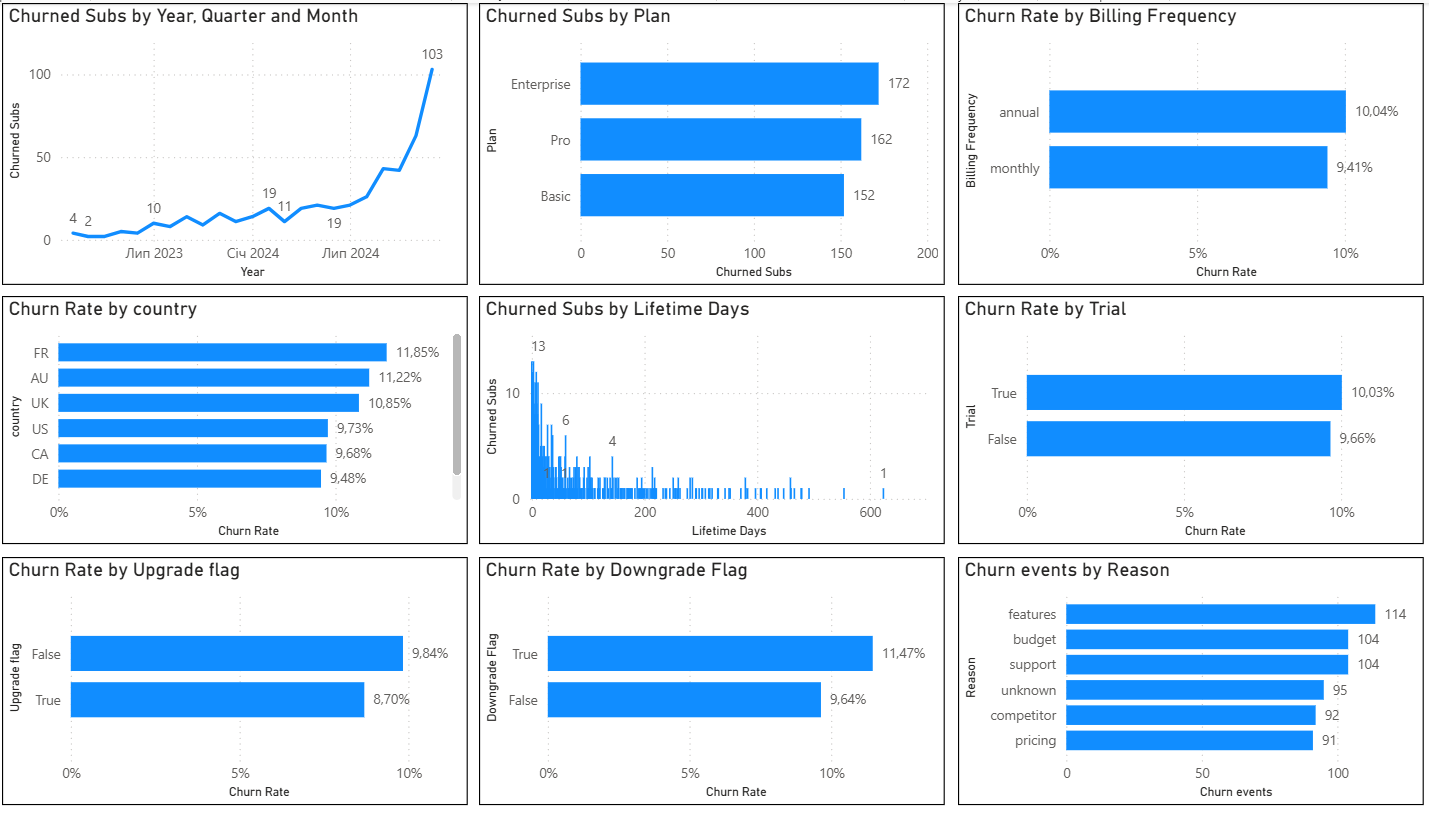

Layout of this report page (visuals, bound fields, positions):
{"tool":"powerbi","page":{"name":"Churn Analysis","canvas":[1280,720],"ordinal":1},"visuals":[{"type":"lineChart","fields":{"Category":["ravenstack_subscriptions.Month.Variation.Date Hierarchy.Year","ravenstack_subscriptions.Month.Variation.Date Hierarchy.Quarter","ravenstack_subscriptions.Month.Variation.Date Hierarchy.Month","ravenstack_subscriptions.Month.Variation.Date Hierarchy.Day"],"Y":["ravenstack_subscriptions.Churned Subs"]},"box":[9.7,0,413.4,250],"z":0},{"type":"barChart","fields":{"Category":["ravenstack_subscriptions.plan_tier"],"Y":["ravenstack_subscriptions.Churned Subs"]},"box":[432.8,0,413.4,250],"z":1000},{"type":"barChart","fields":{"Category":["ravenstack_subscriptions.billing_frequency"],"Y":["ravenstack_subscriptions.Churn Rate"]},"box":[857.9,0,413.4,250],"z":2000},{"type":"barChart","fields":{"Y":["ravenstack_subscriptions.Churn Rate"],"Category":["ravenstack_accounts.country"]},"box":[9.7,259.7,413.4,219.8],"z":3000},{"type":"barChart","fields":{"Y":["ravenstack_subscriptions.Churn Rate"],"Category":["ravenstack_subscriptions.upgrade_flag"]},"box":[9.7,491.2,413.4,219.8],"z":4000},{"type":"columnChart","fields":{"Y":["ravenstack_subscriptions.Churned Subs"],"Category":["ravenstack_subscriptions.Lifetime Days"]},"box":[432.8,259.7,413.4,219.8],"z":5000},{"type":"barChart","fields":{"Category":["ravenstack_subscriptions.is_trial"],"Y":["ravenstack_subscriptions.Churn Rate"]},"box":[857.9,259.7,413.4,219.8],"z":6000},{"type":"barChart","fields":{"Y":["ravenstack_subscriptions.Churn Rate"],"Category":["ravenstack_subscriptions.downgrade_flag"]},"box":[432.8,491.2,413.4,219.8],"z":7000},{"type":"barChart","fields":{"Category":["ravenstack_churn_events.reason_code"],"Y":["CountNonNull(ravenstack_churn_events.churn_event_id)"]},"box":[857.9,491.2,413.4,219.8],"z":8000}]}

Visuals, with their boxes in screenshot pixels (x1, y1, x2, y2), scaled from the page's 1280x720 canvas onto the 1429x813 screenshot:
lineChart - ravenstack_subscriptions.Month.Variation.Date Hierarchy.Year x ravenstack_subscriptions.Month.Variation.Date Hierarchy.Quarter: locate(11, 0, 472, 282)
barChart - ravenstack_subscriptions.plan_tier x ravenstack_subscriptions.Churned Subs: locate(483, 0, 945, 282)
barChart - ravenstack_subscriptions.billing_frequency x ravenstack_subscriptions.Churn Rate: locate(958, 0, 1419, 282)
barChart - ravenstack_subscriptions.Churn Rate x ravenstack_accounts.country: locate(11, 293, 472, 541)
barChart - ravenstack_subscriptions.Churn Rate x ravenstack_subscriptions.upgrade_flag: locate(11, 555, 472, 803)
columnChart - ravenstack_subscriptions.Churned Subs x ravenstack_subscriptions.Lifetime Days: locate(483, 293, 945, 541)
barChart - ravenstack_subscriptions.is_trial x ravenstack_subscriptions.Churn Rate: locate(958, 293, 1419, 541)
barChart - ravenstack_subscriptions.Churn Rate x ravenstack_subscriptions.downgrade_flag: locate(483, 555, 945, 803)
barChart - ravenstack_churn_events.reason_code x CountNonNull(ravenstack_churn_events.churn_event_id): locate(958, 555, 1419, 803)
